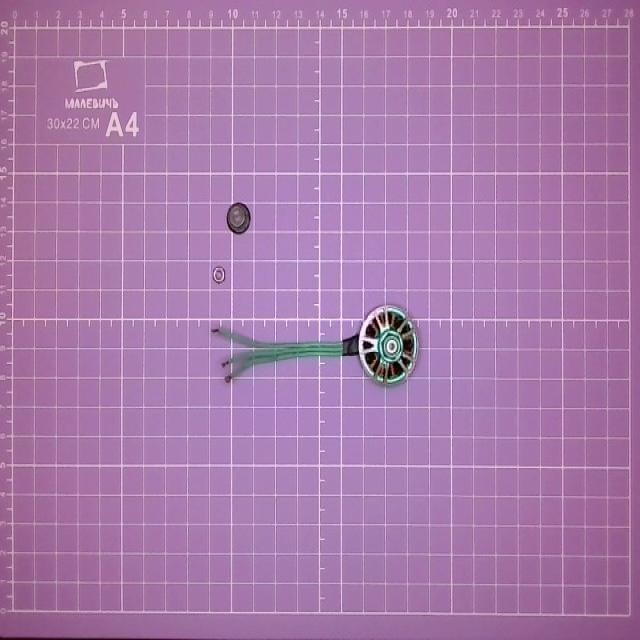motor: (210, 307, 427, 390)
screw_M3: (213, 261, 236, 294)
screw_M5: (223, 193, 258, 240)
